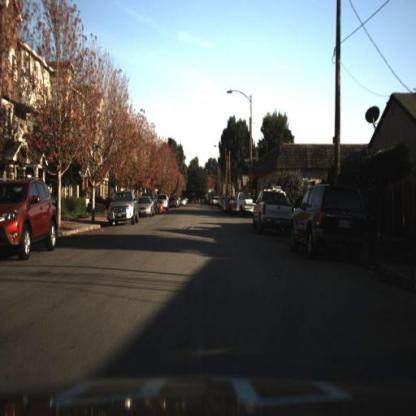car: (287, 178, 370, 261), (1, 173, 65, 266), (289, 180, 377, 246), (252, 186, 301, 237), (251, 188, 298, 230), (106, 188, 139, 228), (229, 191, 258, 217), (137, 199, 157, 221), (140, 196, 156, 218)
